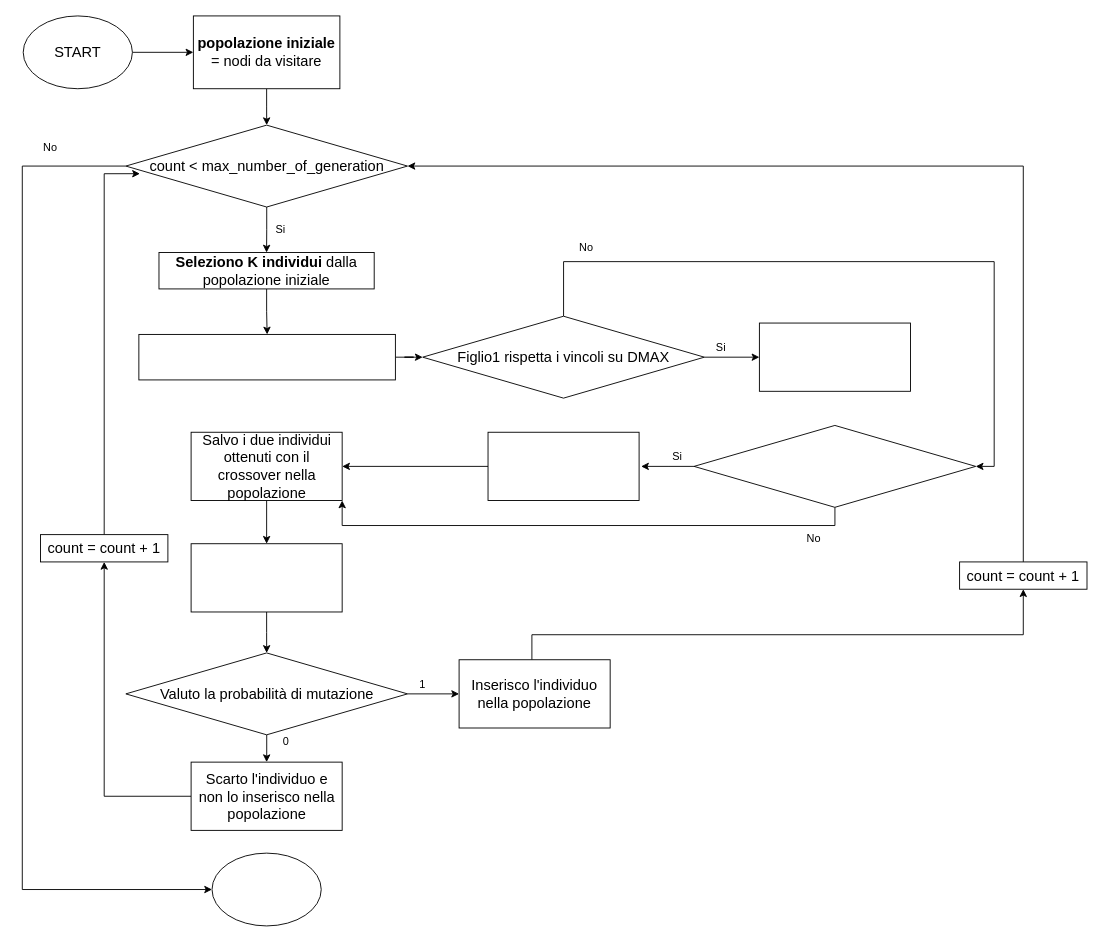
The diagram is 1103 pixels wide and 942 high, and some of its shapes have lost their labels. Each missing label, with the centre of its shape:
"Effettuo il crossover tra due individui per generare altrettanti figli" goes at pixel 266 357.
"Effettuo la mutazione sui nuovi individui con l'euristica 2-opt" goes at pixel 266 577.
"END" goes at pixel 266 889.
"Figlio2 rispetta i vincoli su DMAX" goes at pixel 834 466.
"Sostituisco il genitore con la peggiore fitness con il figlio1" goes at pixel 834 356.
"Sostituisco il genitore con la peggiore fitness con il figlio2" goes at pixel 563 465.
